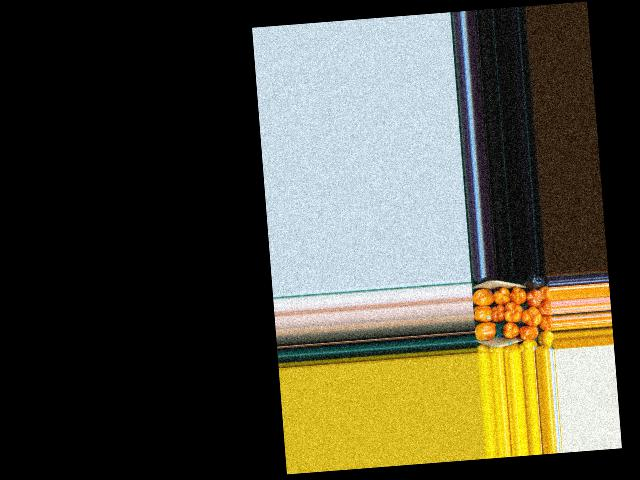bell_pepper: (516, 339, 538, 351)
